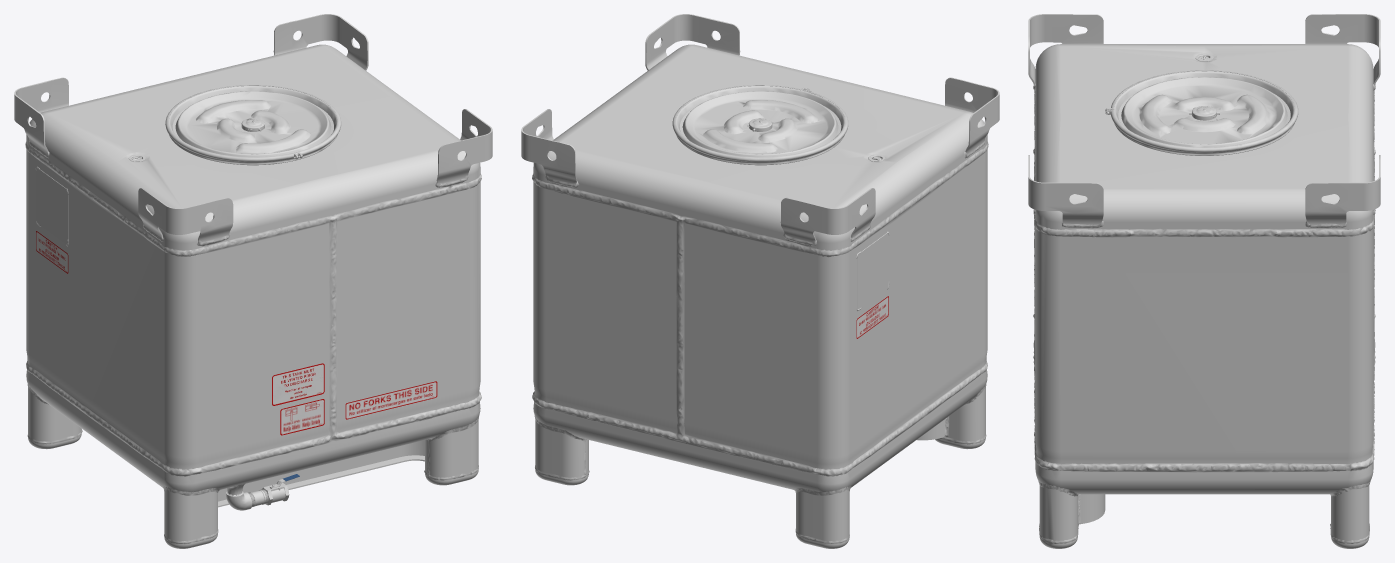
Rendered from ibc_tank.glb.
3 views of the same model, side by side, from view 1: azimuth 30°, elevation 25°; view 2: azimuth 150°, elevation 25°; view 3: azimuth 270°, elevation 25° (orthographic). The views are drawn at different scales.
Parts seen in each view (by area): view 1: ibcTank_steel_stainless_a01; view 2: ibcTank_steel_stainless_a01; view 3: ibcTank_steel_stainless_a01.
Boxes of the visible parts, x1=… form: ibcTank_steel_stainless_a01: x1=14, y1=14, x2=492, y2=548; ibcTank_steel_stainless_a01: x1=521, y1=14, x2=999, y2=548; ibcTank_steel_stainless_a01: x1=1028, y1=14, x2=1380, y2=548.
Bounding box in the file's own units: 1.26 × 1.3 × 1.11.
4 materials, 3 textured.
